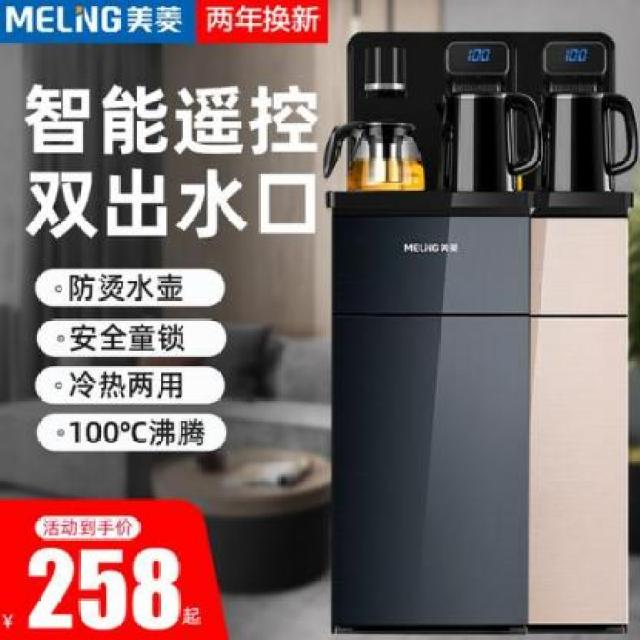cooler: (323, 23, 640, 640)
